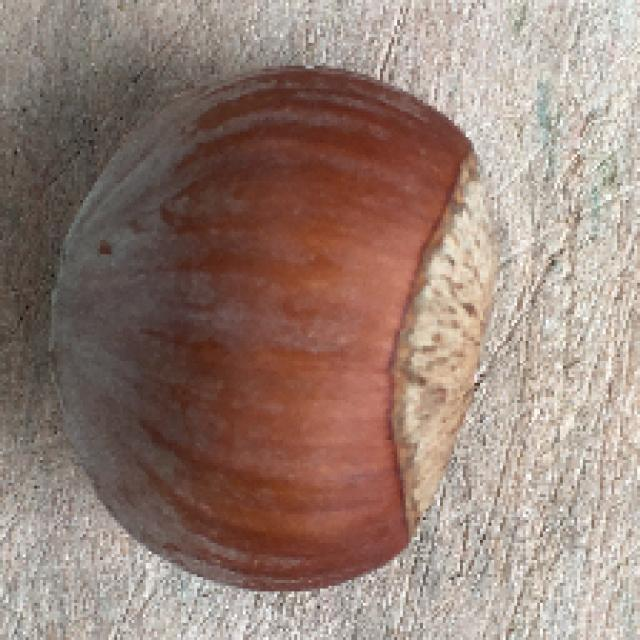qualityHazelnut: (47, 67, 506, 596)
